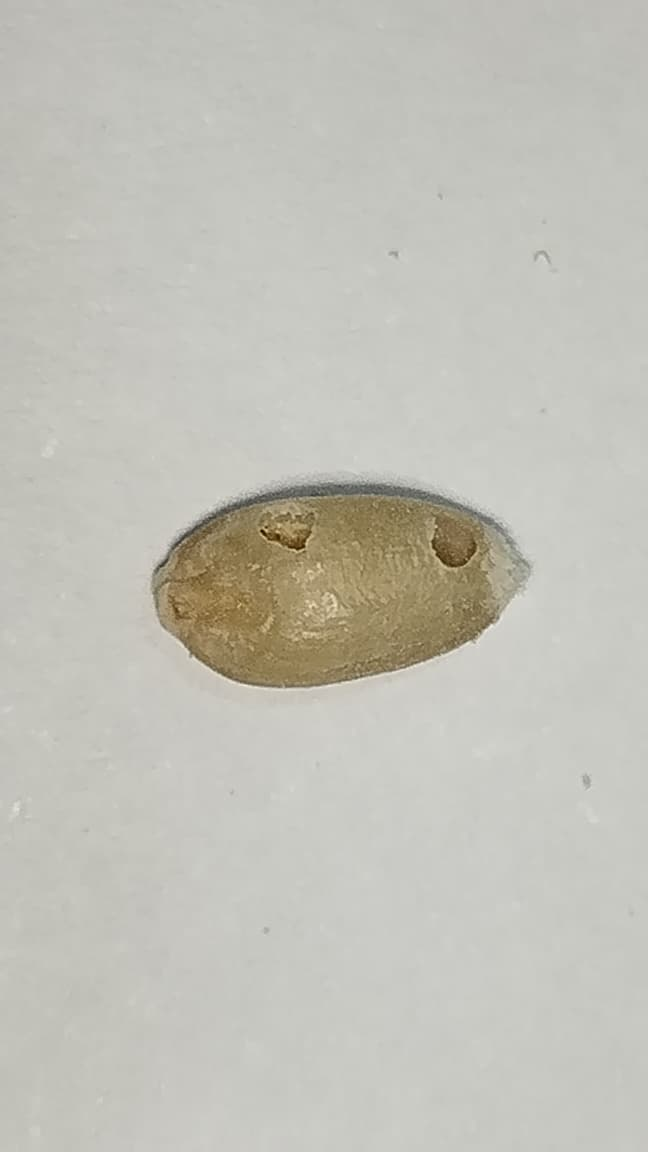damage: (151, 492, 534, 688)
insectdamage: (246, 498, 321, 566), (429, 497, 475, 591)
